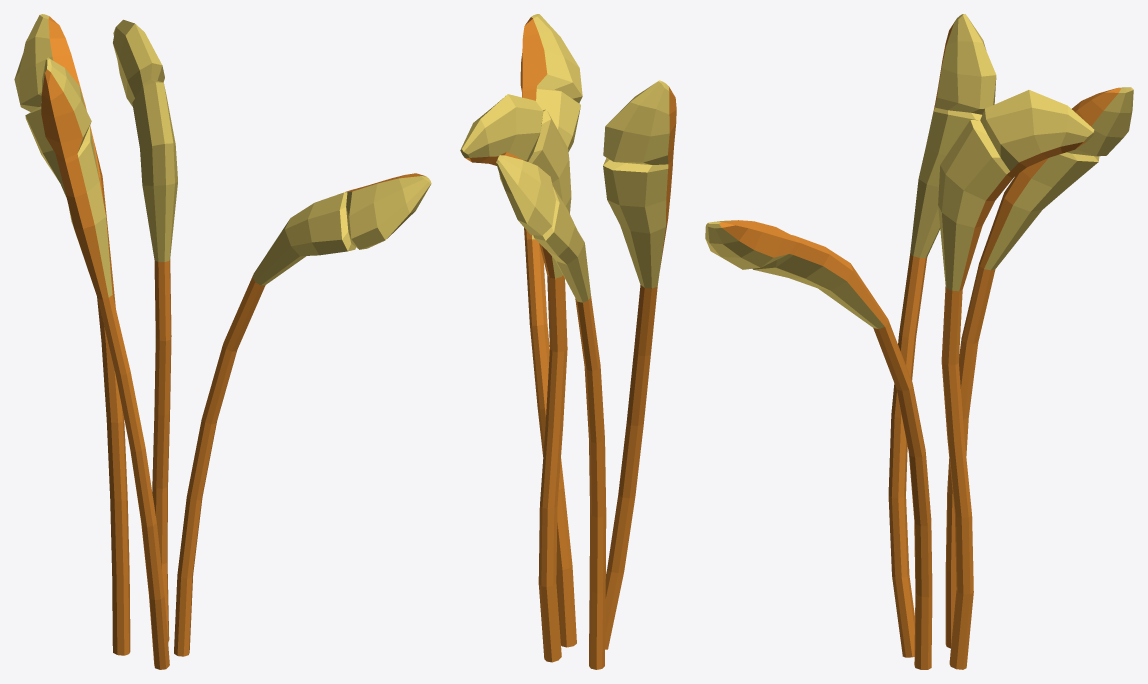
Rendered from Gras_02_Var_02.fbx.
The picture shows the model from 3 angles, left to right: view 1: azimuth 30°, elevation 25°; view 2: azimuth 150°, elevation 25°; view 3: azimuth 270°, elevation 25°; orthographic projection.
Parts seen in each view (by area): view 1: Gras_02_Var_02; view 2: Gras_02_Var_02; view 3: Gras_02_Var_02.
Boxes of the visible parts, x1,y1,x2,y2 form: Gras_02_Var_02: (14, 14, 431, 669); Gras_02_Var_02: (460, 14, 676, 669); Gras_02_Var_02: (705, 14, 1133, 669).
Size of the model in its own units: 0.2715 by 0.4203 by 0.1894.
